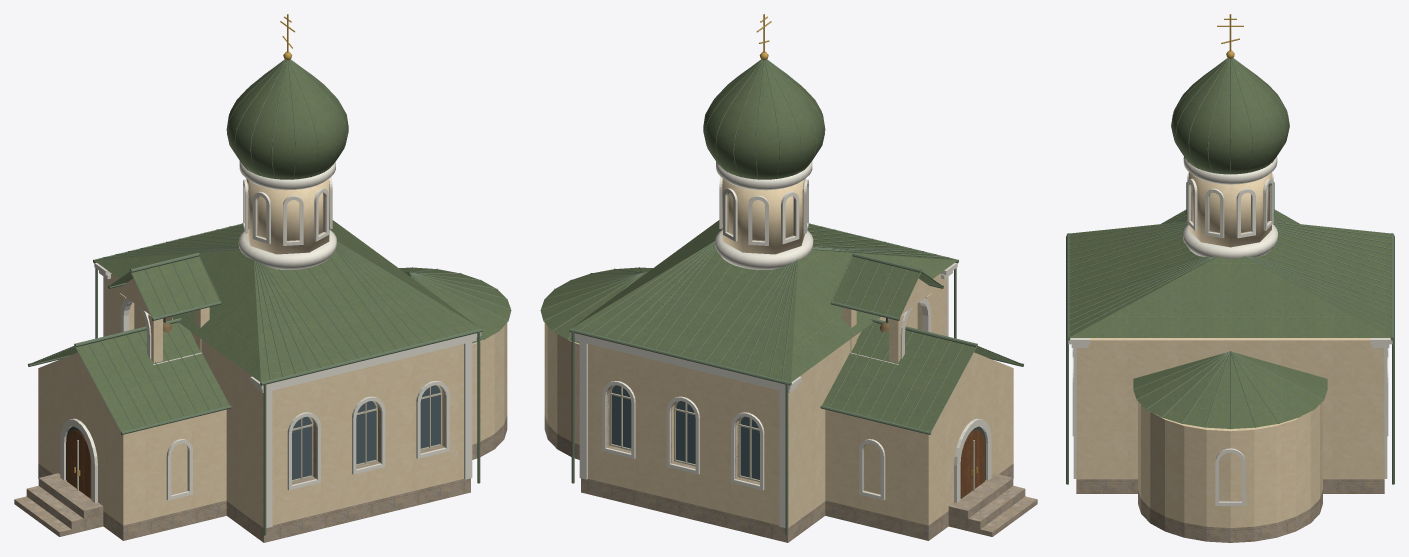
Rendered from church.glb.
3 views of the same model, side by side, from view 1: azimuth 30°, elevation 25°; view 2: azimuth 150°, elevation 25°; view 3: azimuth 270°, elevation 25° (orthographic). The views are drawn at different scales.
Visible parts, largest first — view 1: church; view 2: church; view 3: church.
Part boxes in pixels (x1,y1,x2,y2): church: [14, 14, 511, 542]; church: [540, 14, 1037, 542]; church: [1066, 14, 1394, 542].
Bounding box in the file's own units: 20.07 × 18.5 × 12.79.
Materials: 11 (4 with a texture image).
